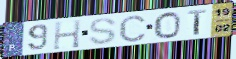9: (26, 23, 50, 51)
C: (118, 14, 148, 44)
H: (52, 18, 83, 51)
O: (153, 11, 182, 39)
S: (88, 17, 119, 46)
T: (187, 8, 208, 36)
